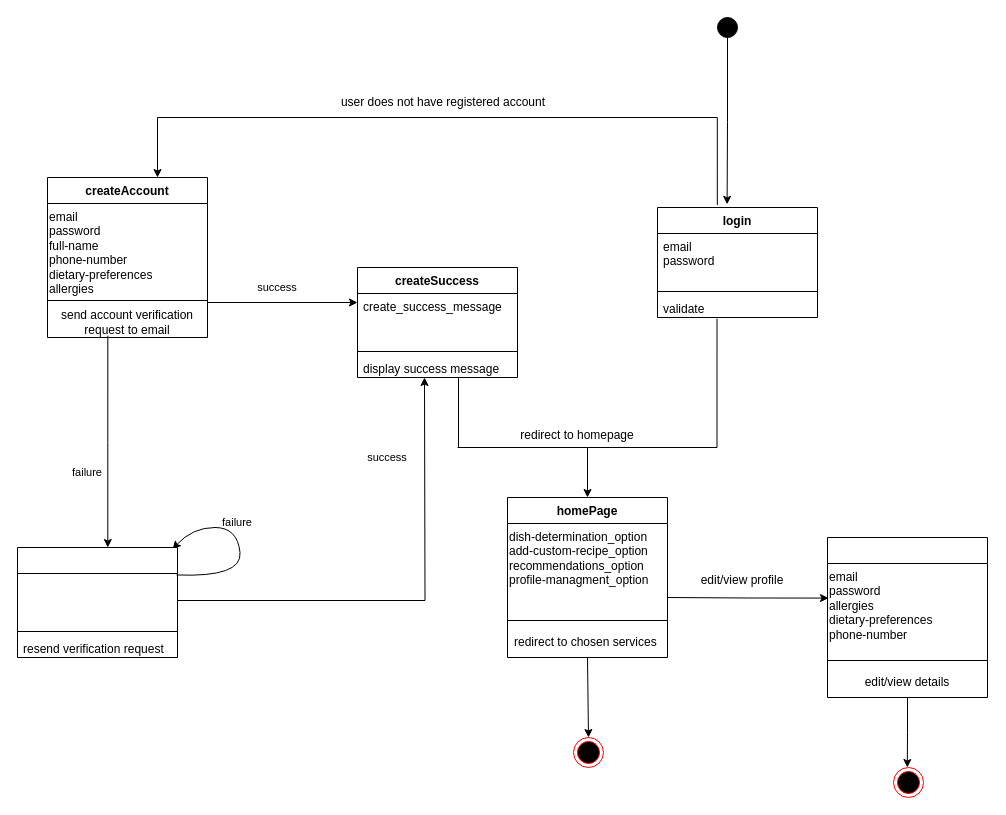
The diagram is 1006 pixels wide and 815 high, and some of its shapes have lost their labels. Each missing label, with the box of its shape:
manageProfile: (826, 536, 988, 698)
retryRequest: (16, 546, 178, 658)
